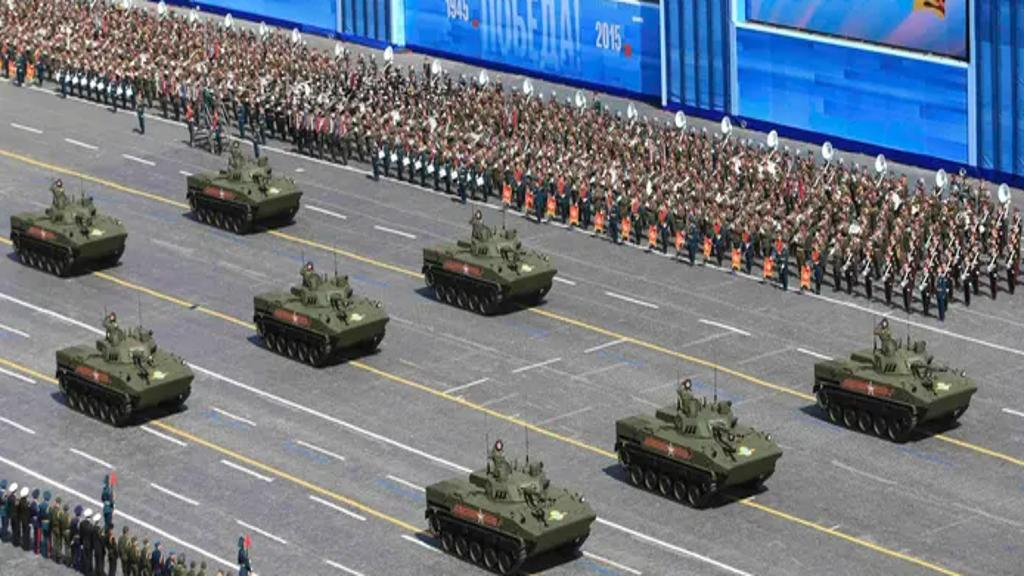APC-IFV: (422, 438, 593, 571), (613, 373, 781, 508), (810, 323, 978, 439), (53, 311, 194, 424), (250, 255, 390, 367), (421, 208, 557, 312), (7, 177, 126, 275), (185, 138, 303, 232)
